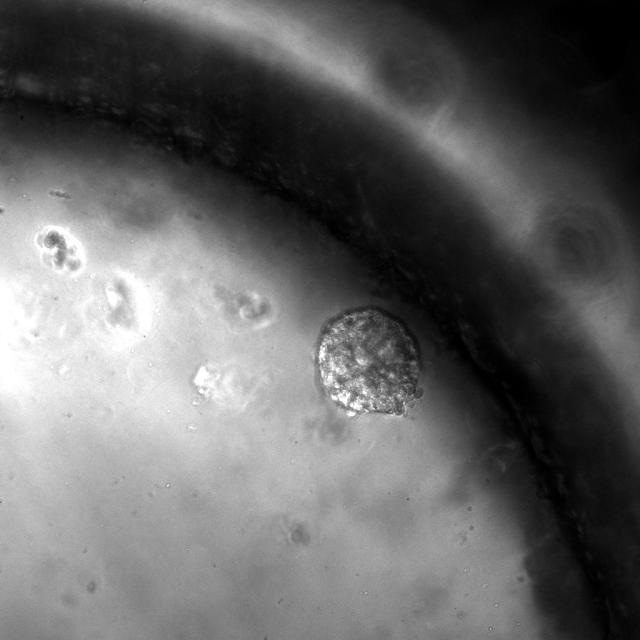organoid: (314, 306, 424, 415), (34, 225, 85, 273)
